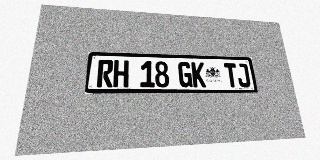1: (140, 61, 155, 87)
8: (155, 61, 169, 87)
G: (178, 62, 193, 87)
H: (113, 60, 129, 87)
J: (236, 63, 251, 87)
K: (191, 62, 206, 87)
R: (96, 60, 113, 87)
T: (224, 63, 239, 87)
